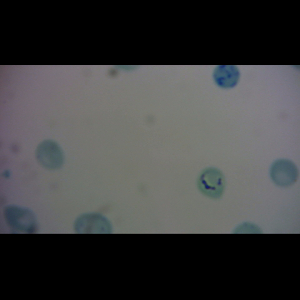aggregate reticulocyte: (212, 64, 242, 90)
erythrocyte: (198, 165, 229, 201), (34, 139, 67, 172), (269, 157, 299, 189)
